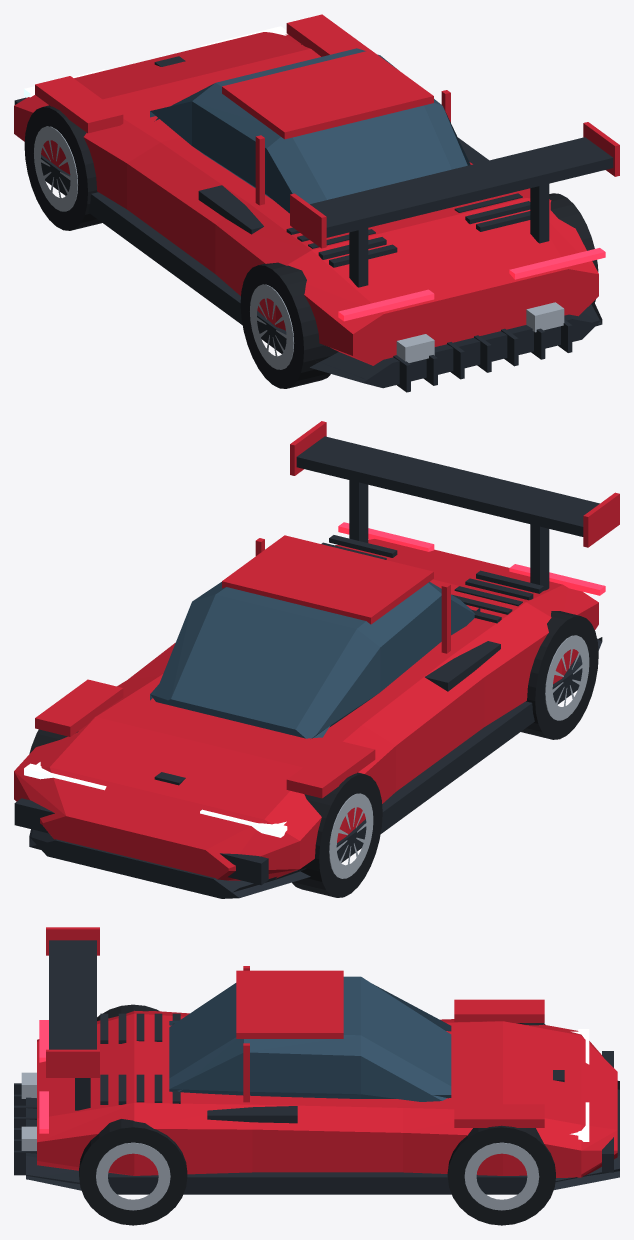
File: apex_red.glb
3 views of the same model, one above another, from view 1: azimuth 30°, elevation 25°; view 2: azimuth 150°, elevation 25°; view 3: azimuth 270°, elevation 25° (orthographic). The views are drawn at different scales.
Parts seen in each view (by area): view 1: Coachwork, Wheel_RL, Wheel_FL, Wheel_RR; view 2: Coachwork, Wheel_FL, Wheel_RL; view 3: Coachwork, Wheel_RR, Wheel_FR.
Boxes of the visible parts, <box> form: Coachwork: <box>14,14,619,392</box>; Wheel_RL: <box>240,262,338,388</box>; Wheel_FL: <box>24,105,101,230</box>; Wheel_RR: <box>549,193,598,302</box>; Coachwork: <box>14,421,619,898</box>; Wheel_FL: <box>292,772,382,897</box>; Wheel_RL: <box>521,611,598,739</box>; Coachwork: <box>14,927,619,1194</box>; Wheel_RR: <box>79,1119,187,1225</box>; Wheel_FR: <box>447,1125,555,1225</box>.
Bounding box in the file's own units: 2.44 × 1.6 × 5.03.
